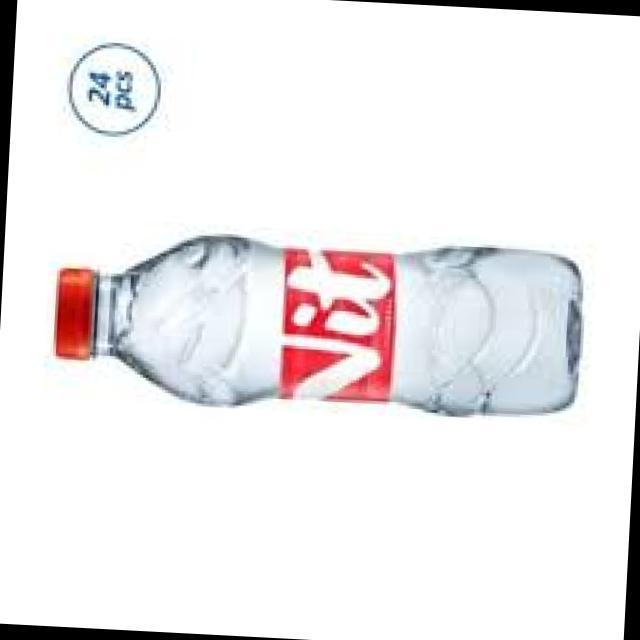good: (25, 172, 618, 469)
